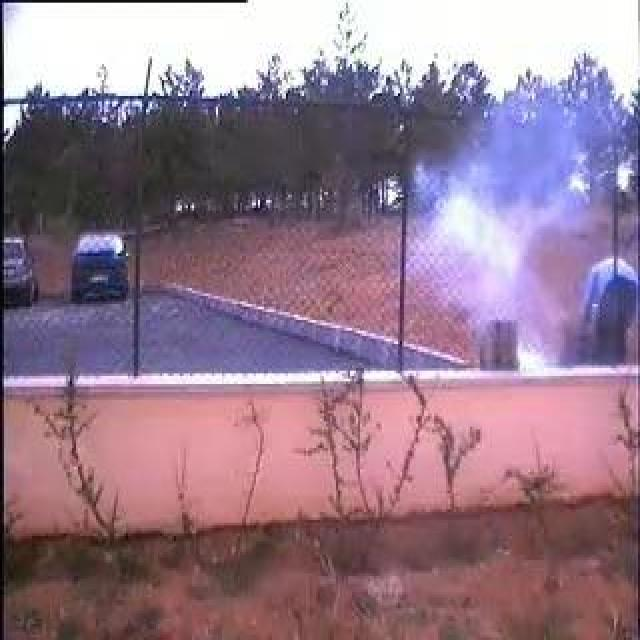Smoke: (422, 159, 560, 356)
